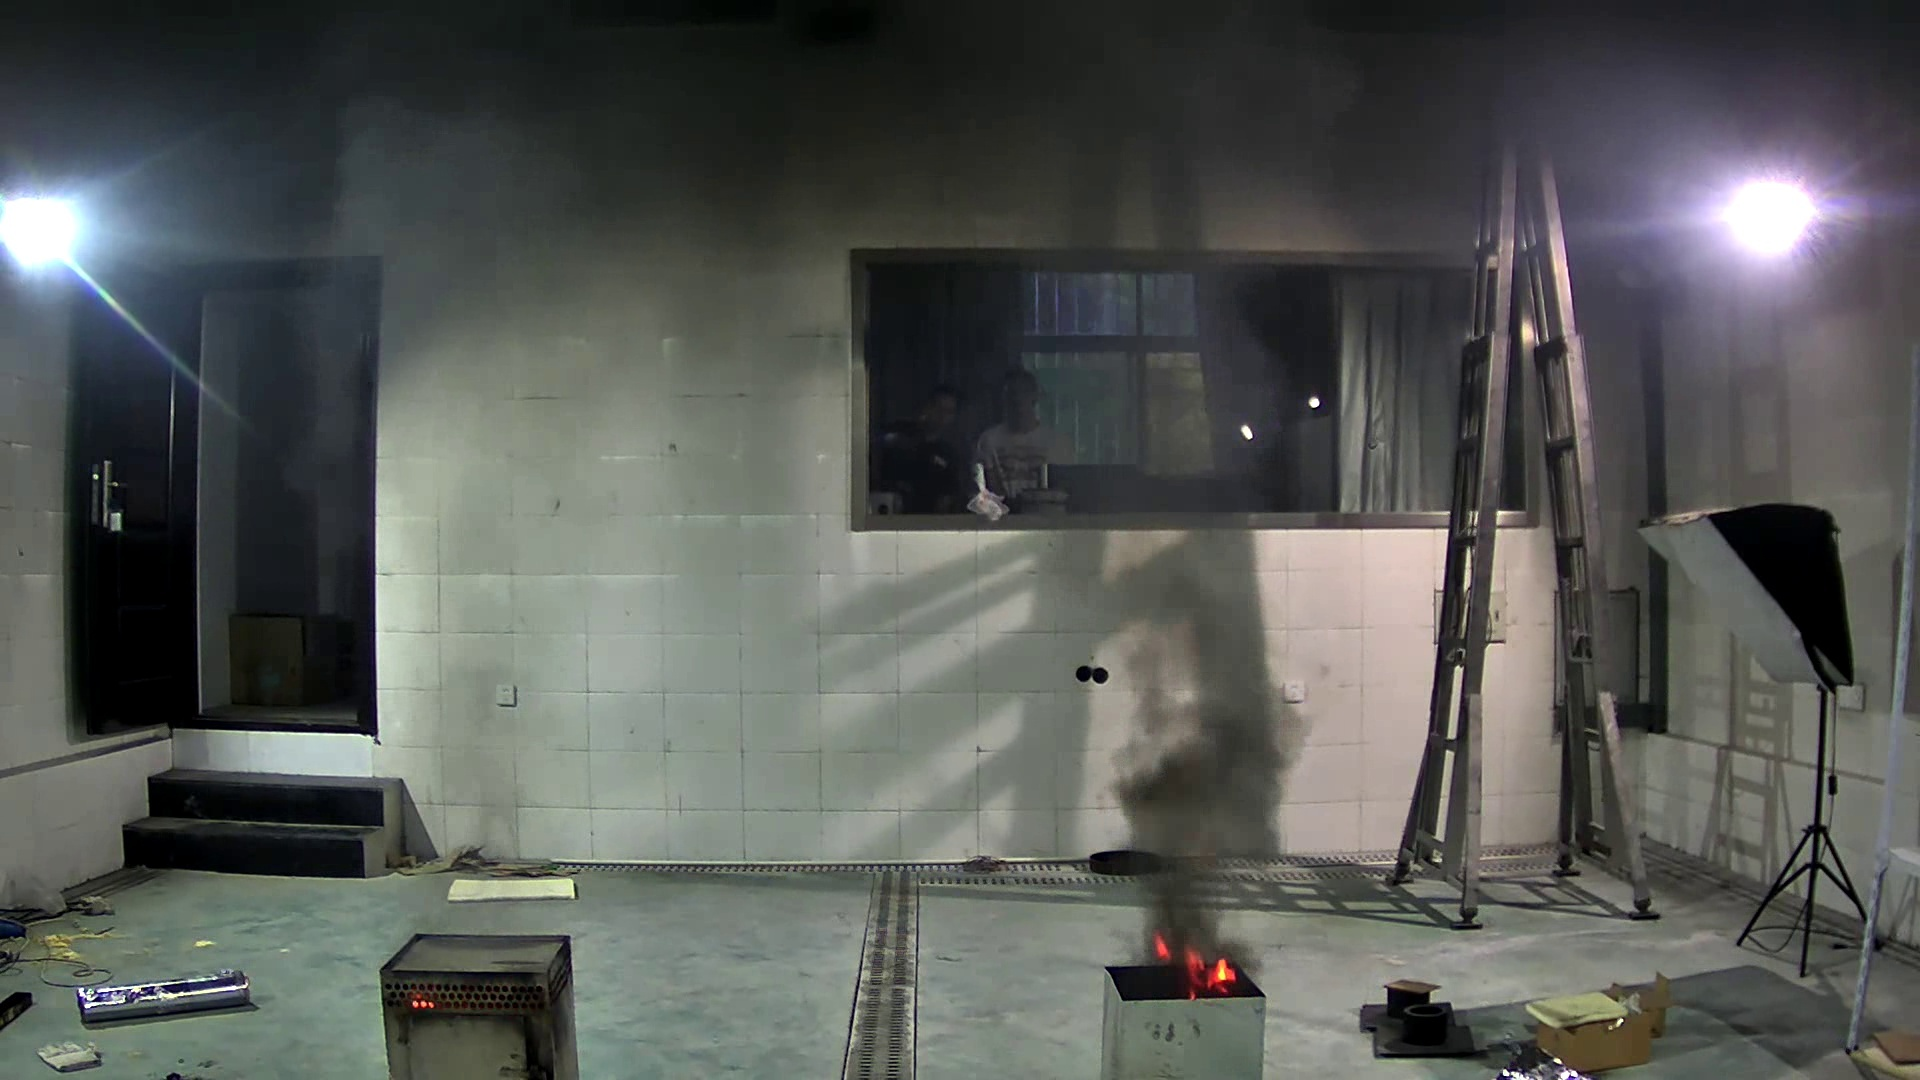smoke: (1052, 495, 1313, 967)
